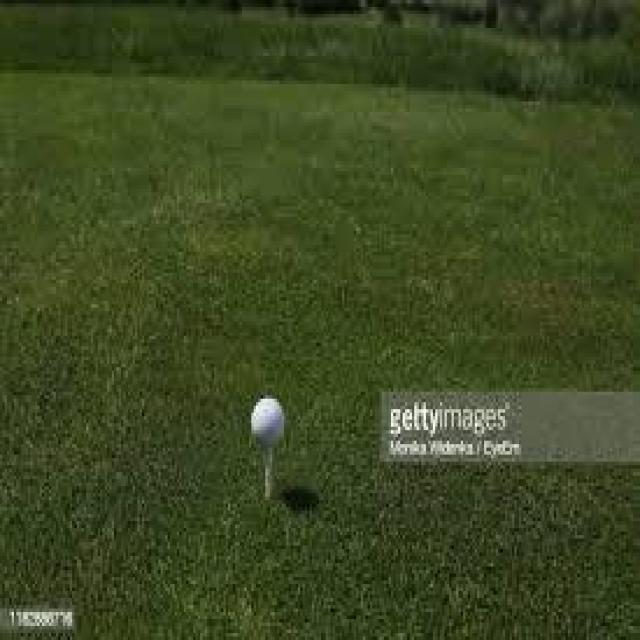GolfBall: (237, 392, 298, 448)
